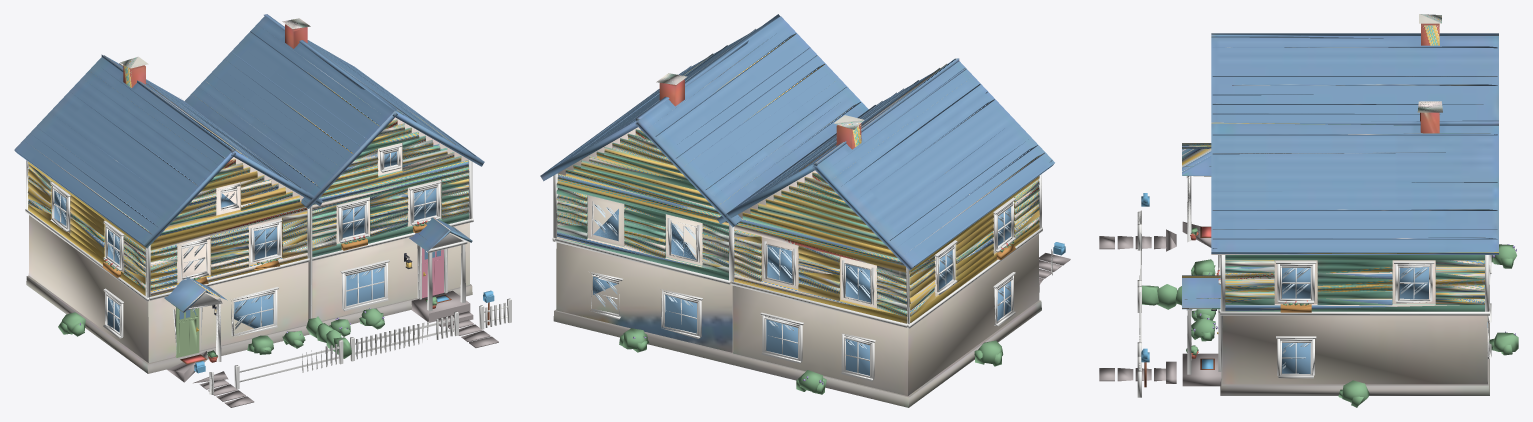
Rendered from duplex-house.glb.
3 views of the same model, side by side, from view 1: azimuth 30°, elevation 25°; view 2: azimuth 150°, elevation 25°; view 3: azimuth 270°, elevation 25° (orthographic). The views are drawn at different scales.
Parts seen in each view (by area): view 1: duplex-house_body, duplex-house_details; view 2: duplex-house_body, duplex-house_details; view 3: duplex-house_body, duplex-house_details.
Boxes of the visible parts, <box> form: duplex-house_body: <box>14,14,484,373</box>; duplex-house_details: <box>25,144,511,407</box>; duplex-house_body: <box>540,14,1054,407</box>; duplex-house_details: <box>552,173,1070,394</box>; duplex-house_body: <box>1182,14,1498,395</box>; duplex-house_details: <box>1099,176,1518,407</box>.
Size of the model in its own units: 16.28 by 9.23 by 14.22.
2 materials, 2 textured.
